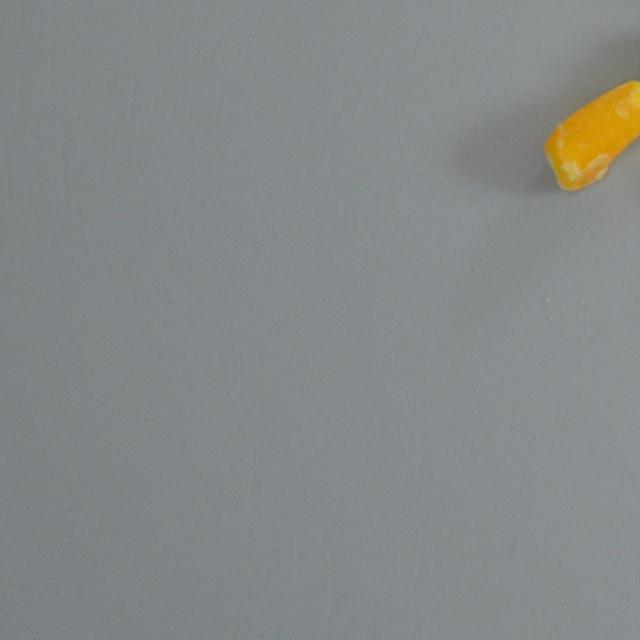pelicula: (540, 78, 640, 202)
